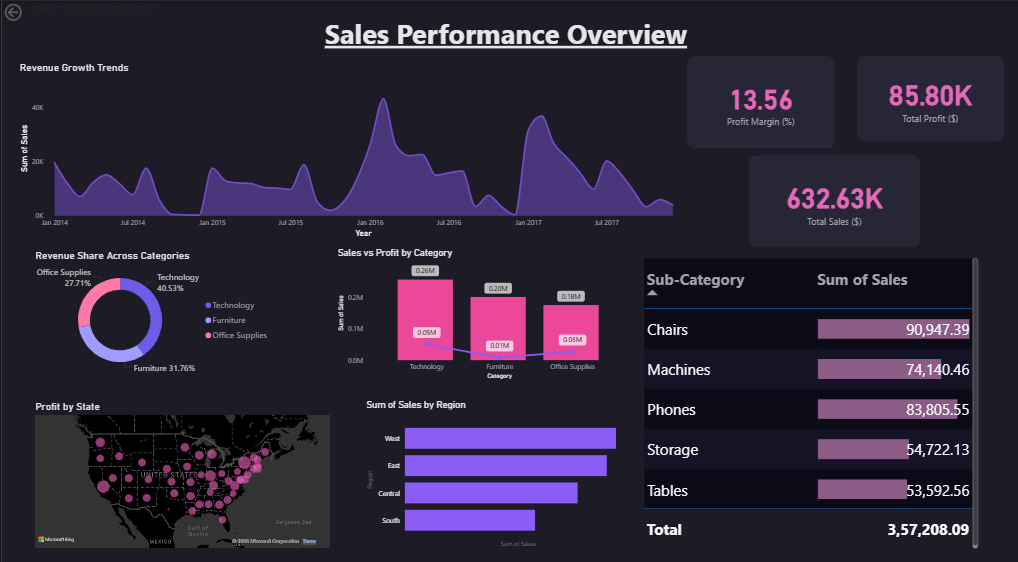

Layout of this report page (visuals, bound fields, positions):
{"tool":"powerbi","page":{"name":"Page 1","canvas":[1800,1000],"ordinal":0},"visuals":[{"type":"areaChart","title":"Sales Trend","fields":{"Y":["Sum(superstoredata.Sales)"],"Category":["superstoredata.Order Date.Variation.Date Hierarchy.Year","superstoredata.Order Date.Variation.Date Hierarchy.Month","superstoredata.Order Date.Variation.Date Hierarchy.Day"]},"box":[27.1,97.1,1188.3,325.3],"z":0},{"type":"map","title":" Profit by State","fields":{"Size":["Sum(superstoredata.Profit)"],"Category":["superstoredata.State"]},"box":[49.7,704.8,539.9,273.3],"z":1000},{"type":"lineClusteredColumnComboChart","title":"Sales vs Profit by Category","fields":{"Category":["superstoredata.Category"],"Y":["Sum(superstoredata.Sales)"],"Y2":["Sum(superstoredata.Profit)"]},"box":[590,435.8,528.8,239.2],"z":2000},{"type":"barChart","fields":{"Category":["superstoredata.Region"],"Y":["Sum(superstoredata.Sales)"]},"box":[639.3,704.8,478.9,268.8],"z":3000},{"type":"actionButton","box":[0,0,100,40],"z":4000},{"type":"tableEx","fields":{"Values":["superstoredata.Sub-Category","Sum(superstoredata.Sales)"]},"box":[1118.2,436,628,535.4],"z":5000},{"type":"card","fields":{"Values":["superstoredata.Total Sales"]},"box":[1323.8,259.8,302.7,162.7],"z":6000},{"type":"card","fields":{"Values":["superstoredata.Total Profit"]},"box":[1513.6,97.1,259.8,149.1],"z":7000},{"type":"card","fields":{"Values":["superstoredata.Profit Margin"]},"box":[1215.4,97.1,259.8,162.7],"z":8000},{"type":"donutChart","title":"Sales by category","fields":{"Category":["superstoredata.Category"],"Y":["Sum(superstoredata.Sales)"]},"box":[49.7,436,438.3,239.5],"z":9000},{"type":"textbox","box":[49.7,0,1644.6,97.1],"z":10000}]}

Visuals, with their boxes in screenshot pixels (x1, y1, x2, y2), scaled from the page's 1800x1000 canvas onto the 1018x562 screenshot:
"Sales Trend" areaChart: [15, 55, 687, 237]
" Profit by State" map: [28, 396, 333, 550]
"Sales vs Profit by Category" lineClusteredColumnComboChart: [334, 245, 633, 379]
barChart - superstoredata.Region x Sum(superstoredata.Sales): [362, 396, 632, 547]
actionButton: [0, 0, 57, 22]
tableEx - superstoredata.Sub-Category x Sum(superstoredata.Sales): [632, 245, 988, 546]
card - superstoredata.Total Sales: [749, 146, 920, 237]
card - superstoredata.Total Profit: [856, 55, 1003, 138]
card - superstoredata.Profit Margin: [687, 55, 834, 146]
"Sales by category" donutChart: [28, 245, 276, 380]
textbox: [28, 0, 958, 55]
